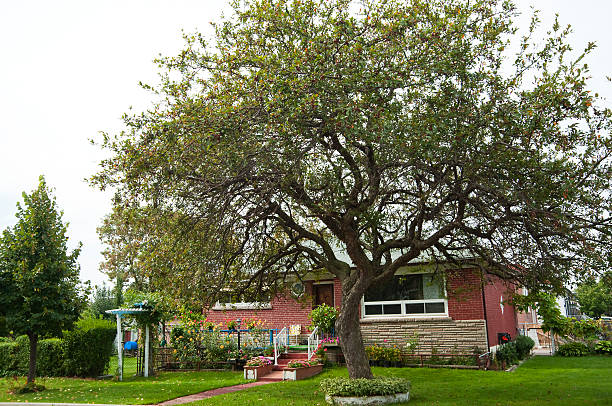tree: (108, 9, 599, 374), (1, 174, 89, 389)
